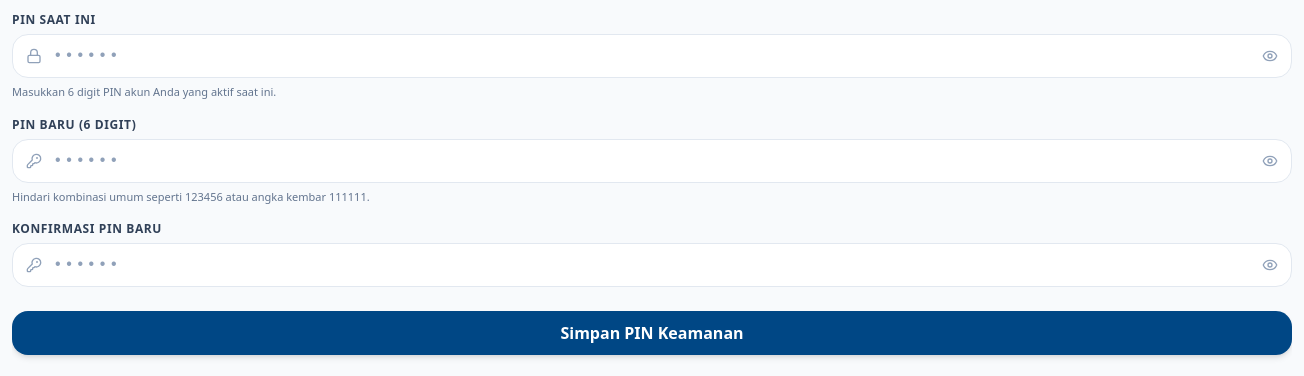
Test: Change PIN Feature (Task P1.4) Tests › ChangePinForm Component › rejects weak PIN combinations
Type "837492" into the password field labelled "PIN Saat Ini" at (652, 56), box [12,34,1292,78]
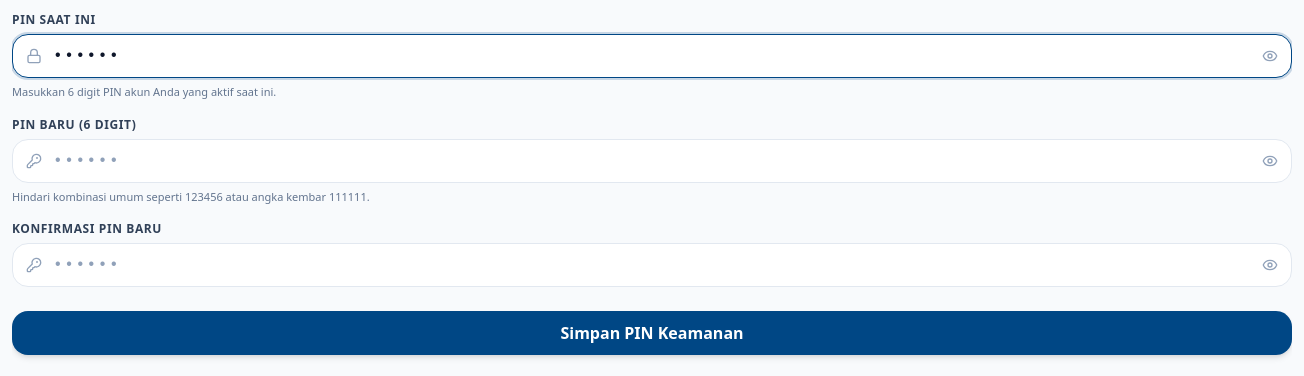
Type "111111" into the password field labelled "PIN Baru (6 Digit)" at (652, 160), box [12,138,1292,182]
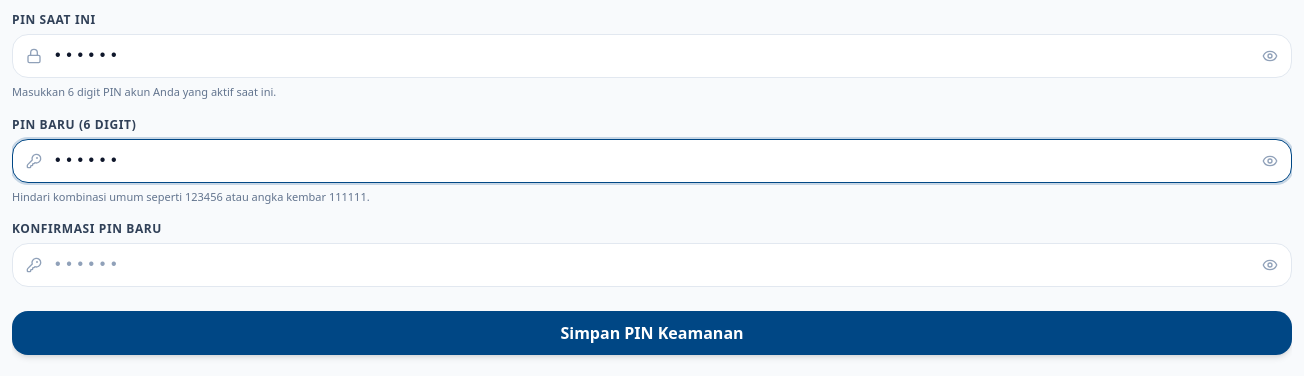
Type "111111" into the password field labelled "Konfirmasi PIN Baru" at (652, 265), box [12,243,1292,287]
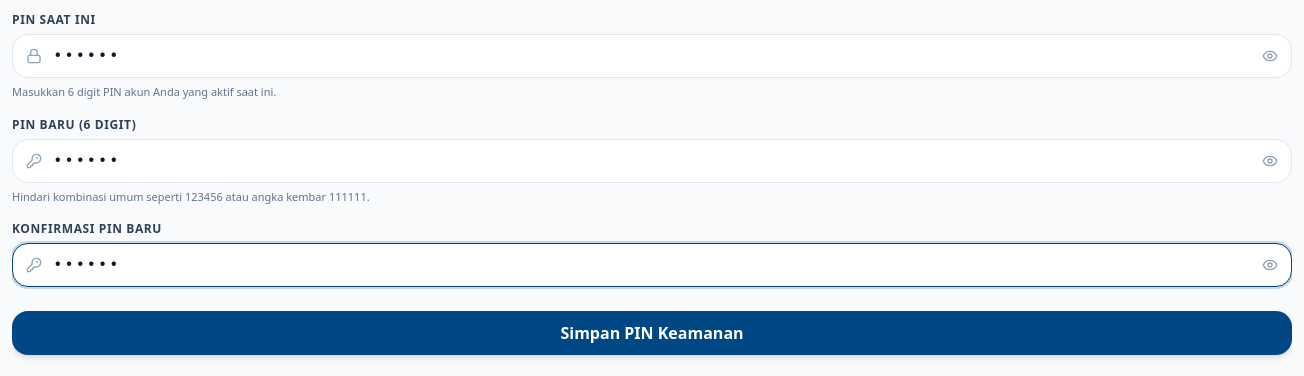
Click the button "Simpan PIN Keamanan" at (652, 333), box [12,311,1292,355]
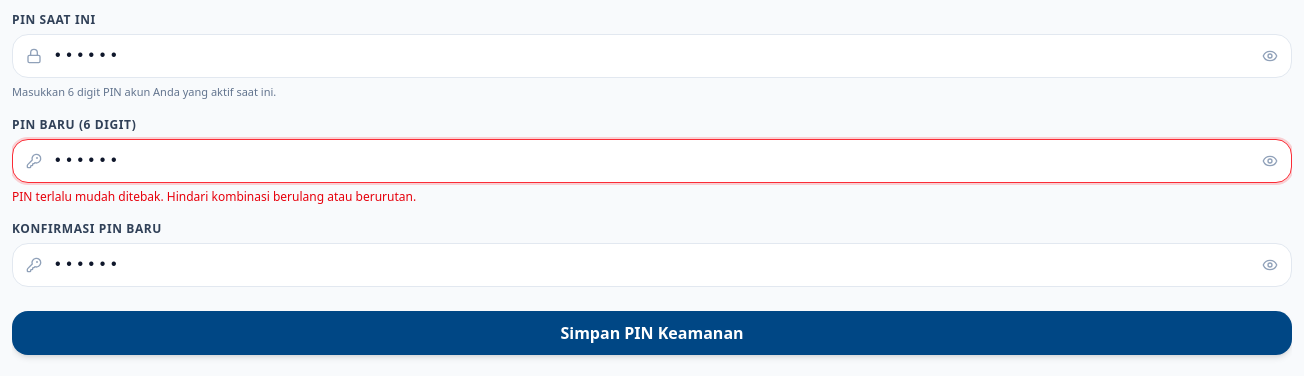
Check: the text "PIN terlalu mudah ditebak. Hindari kombinasi berulang atau berurutan." is shown, box [12,188,416,204]
